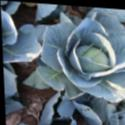cabbage: (71, 34, 115, 77)
